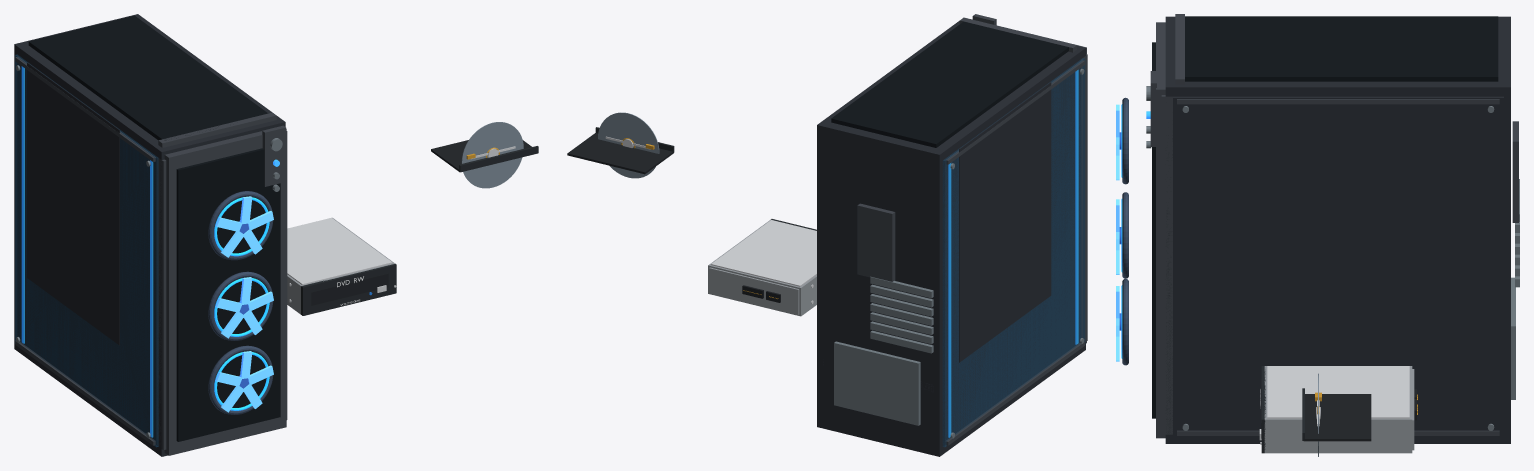
File: computer_case_motherboard_fit.glb
3 views of the same model, side by side, from view 1: azimuth 30°, elevation 25°; view 2: azimuth 150°, elevation 25°; view 3: azimuth 270°, elevation 25° (orthographic). The views are drawn at different scales.
Visible parts, largest first — view 1: CASE_Frame_LeftRail.001, CASE_FrontMesh.001, CASE_GlassPanel.001, CASE_MotherboardTray.001, CASE_TopVentilation.001, CASE_FrontBezel.001, OPTICAL_TopCover, CASE_Frame_FrontLeft.001, OPTICAL_Disc, OPTICAL_FrontBezel, CASE_Frame_TopRail.001, CASE_FrontIO.001 (+14 smaller); view 2: CASE_Frame_LeftRail.001, CASE_GlassPanel.001, CASE_Frame_RearRail.001, CASE_MotherboardTray.001, CASE_TopVentilation.001, CASE_PSUMountArea.001, OPTICAL_TopCover, CASE_Frame_RightRail.001, CASE_RearIO.001, OPTICAL_RearPanel, OPTICAL_TrayBase, CASE_Frame_TopRail.001 (+16 smaller); view 3: CASE_SolidPanel.001, CASE_TopVentilation.001, CASE_Frame_RightRail.001, OPTICAL_TopCover, OPTICAL_Enclosure, CASE_Frame_FrontRight.001, OPTICAL_TrayBase, CASE_FrontBezel.001, CASE_Frame_TopRail.001, CASE_SolidPanel_TopTrim.001, CASE_FrontMesh.001, CASE_SolidPanel_BottomTrim.001 (+7 smaller).
Boxes of the visible parts, <box> form: CASE_Frame_LeftRail.001: <box>14,42,168,456</box>; CASE_FrontMesh.001: <box>176,148,280,441</box>; CASE_GlassPanel.001: <box>15,54,158,447</box>; CASE_MotherboardTray.001: <box>27,62,119,345</box>; CASE_TopVentilation.001: <box>28,15,268,140</box>; CASE_FrontBezel.001: <box>164,129,286,455</box>; OPTICAL_TopCover: <box>287,218,392,285</box>; CASE_Frame_FrontLeft.001: <box>157,157,166,450</box>; OPTICAL_Disc: <box>461,122,523,188</box>; OPTICAL_FrontBezel: <box>301,263,396,315</box>; CASE_Frame_TopRail.001: <box>21,16,278,153</box>; CASE_FrontIO.001: <box>262,125,286,186</box>; CASE_Frame_LeftRail.001: <box>932,46,1085,456</box>; CASE_GlassPanel.001: <box>942,58,1085,447</box>; CASE_Frame_RearRail.001: <box>824,134,932,447</box>; CASE_MotherboardTray.001: <box>959,82,1051,362</box>; CASE_TopVentilation.001: <box>831,21,1068,147</box>; CASE_PSUMountArea.001: <box>834,341,920,425</box>; OPTICAL_TopCover: <box>711,220,816,286</box>; CASE_Frame_RightRail.001: <box>817,21,959,428</box>; CASE_RearIO.001: <box>857,203,895,281</box>; OPTICAL_RearPanel: <box>709,267,799,314</box>; OPTICAL_TrayBase: <box>567,133,673,174</box>; CASE_Frame_TopRail.001: <box>824,46,1078,160</box>; CASE_SolidPanel.001: <box>1173,96,1503,435</box>; CASE_TopVentilation.001: <box>1185,16,1498,81</box>; CASE_Frame_RightRail.001: <box>1165,83,1510,443</box>; OPTICAL_TopCover: <box>1267,366,1409,418</box>; OPTICAL_Enclosure: <box>1264,366,1412,453</box>; CASE_Frame_FrontRight.001: <box>1161,95,1172,434</box>; OPTICAL_TrayBase: <box>1303,394,1371,441</box>; CASE_FrontBezel.001: <box>1156,22,1165,438</box>; CASE_Frame_TopRail.001: <box>1165,20,1510,83</box>; CASE_SolidPanel_TopTrim.001: <box>1177,99,1499,104</box>; CASE_FrontMesh.001: <box>1152,42,1155,418</box>; CASE_SolidPanel_BottomTrim.001: <box>1177,430,1499,435</box>.
Bounding box in the file's own units: 0.686 × 0.46 × 0.465.
